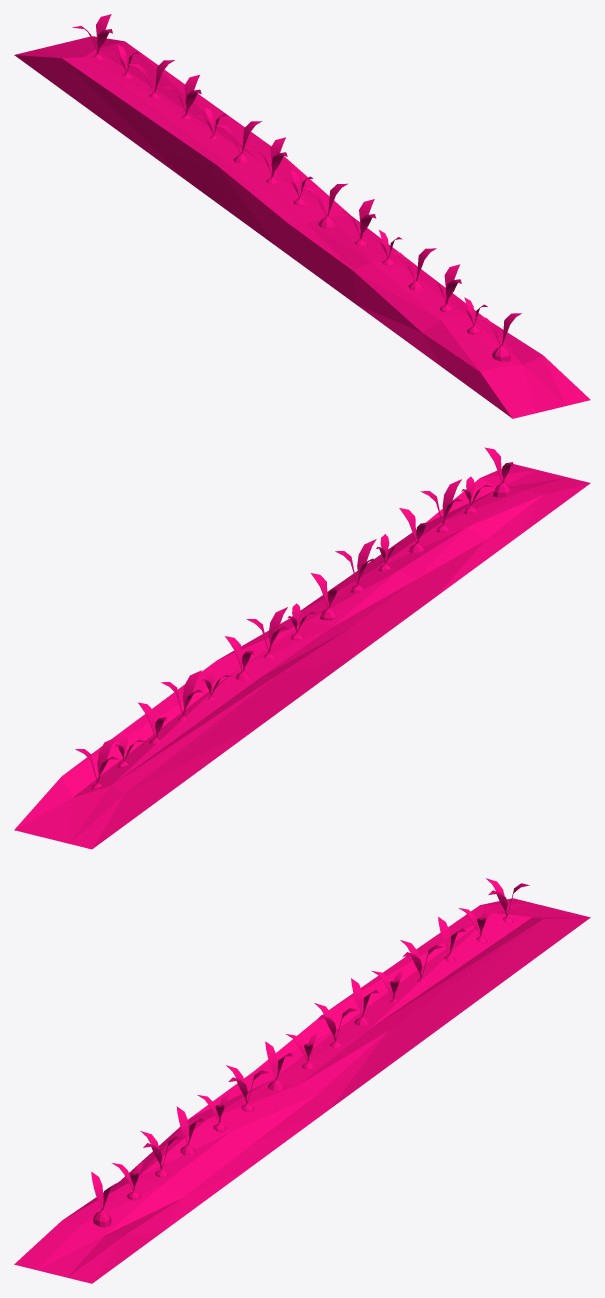
File: SM_SS_Beets_garden.fbx
The picture shows the model from 3 angles, top to bottom: view 1: azimuth 30°, elevation 25°; view 2: azimuth 150°, elevation 25°; view 3: azimuth 330°, elevation 25°; orthographic projection.
Parts seen in each view (by area): view 1: SM_SS_Beets_garden; view 2: SM_SS_Beets_garden; view 3: SM_SS_Beets_garden.
Part boxes in pixels (<box>): SM_SS_Beets_garden: <box>14,14,590,418</box>; SM_SS_Beets_garden: <box>14,447,590,849</box>; SM_SS_Beets_garden: <box>14,878,590,1283</box>.
Bounding box in the file's own units: 27.62 × 301 × 21.04.
